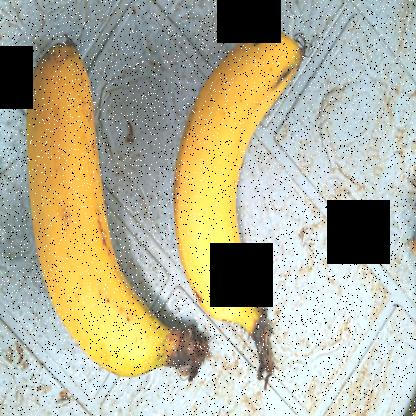freshripe: (4, 158, 253, 412), (138, 0, 304, 277)
